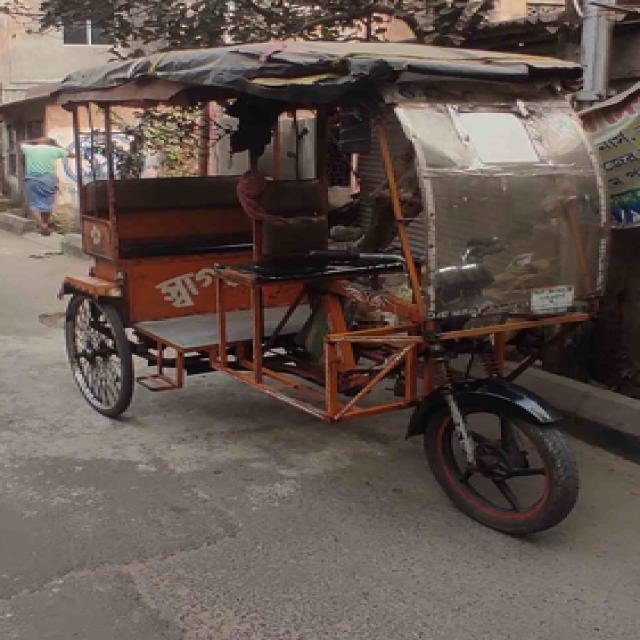rickshaw: (50, 35, 620, 537)
